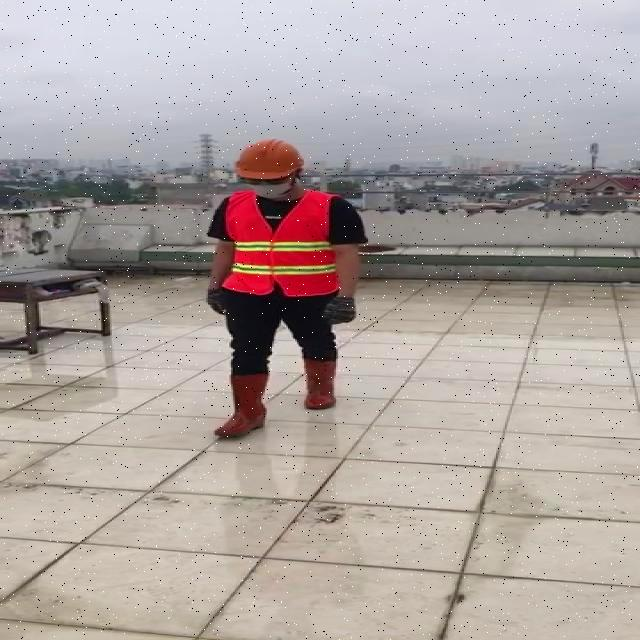Hard_hat: (230, 138, 313, 186)
Person: (199, 131, 373, 501)
Vest: (228, 187, 339, 299)
